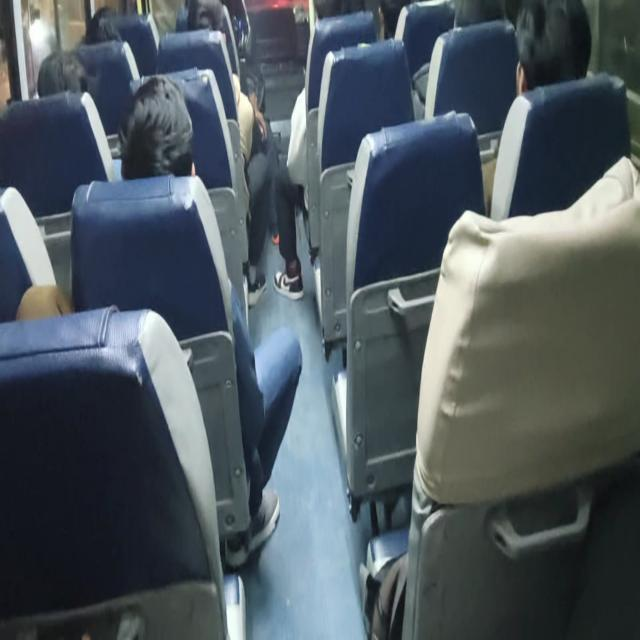person: (117, 85, 206, 183), (515, 0, 585, 78), (15, 39, 89, 106), (180, 0, 227, 34), (81, 10, 127, 44)
